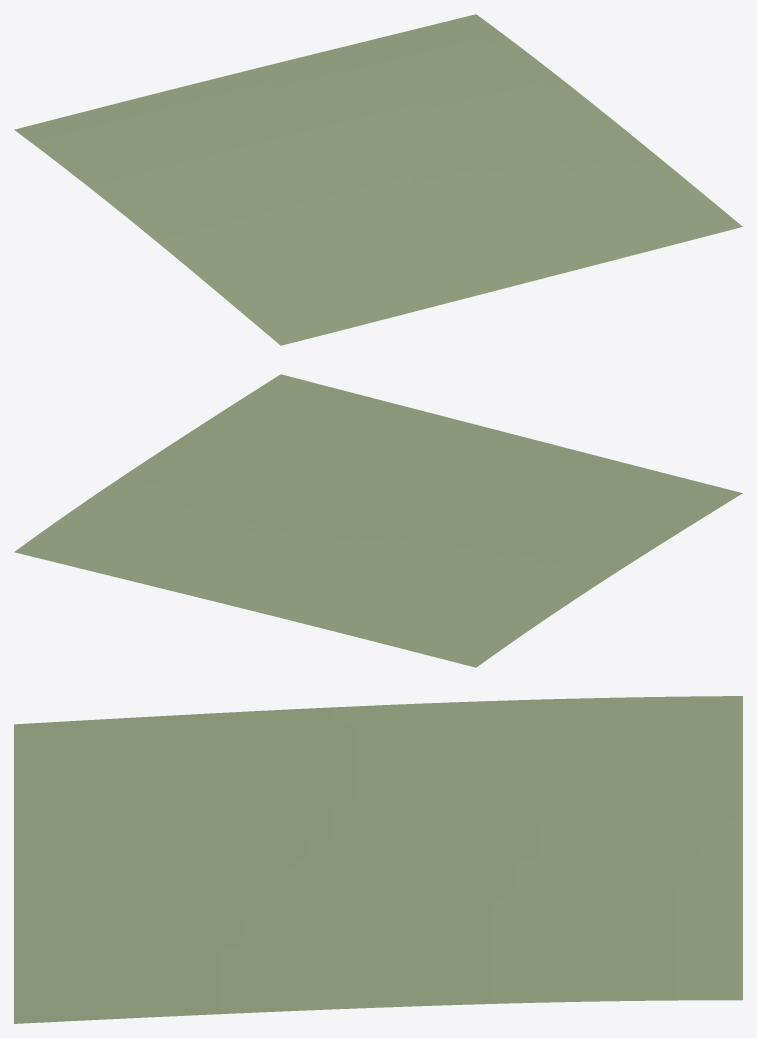
Rendered from desert-7-17.glb.
3 renders of one model, top to bottom at view 1: azimuth 30°, elevation 25°; view 2: azimuth 150°, elevation 25°; view 3: azimuth 270°, elevation 25°, orthographic. The views are drawn at different scales.
Visible parts, largest first — view 1: desert-7-17; view 2: desert-7-17; view 3: desert-7-17.
Part boxes in pixels (x1,y1,x2,y2): desert-7-17: (14, 14, 742, 345); desert-7-17: (14, 374, 742, 667); desert-7-17: (14, 696, 742, 1023).
Bounding box in the file's own units: 512 × 24.94 × 512.
